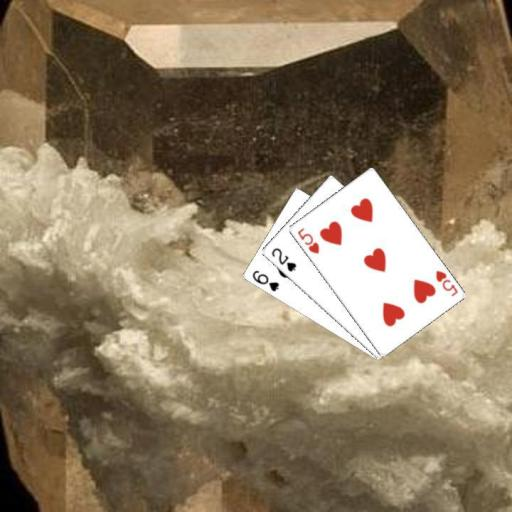2S: (268, 245, 298, 273)
5H: (432, 267, 459, 298), (294, 225, 321, 255)
6S: (249, 267, 280, 293)
